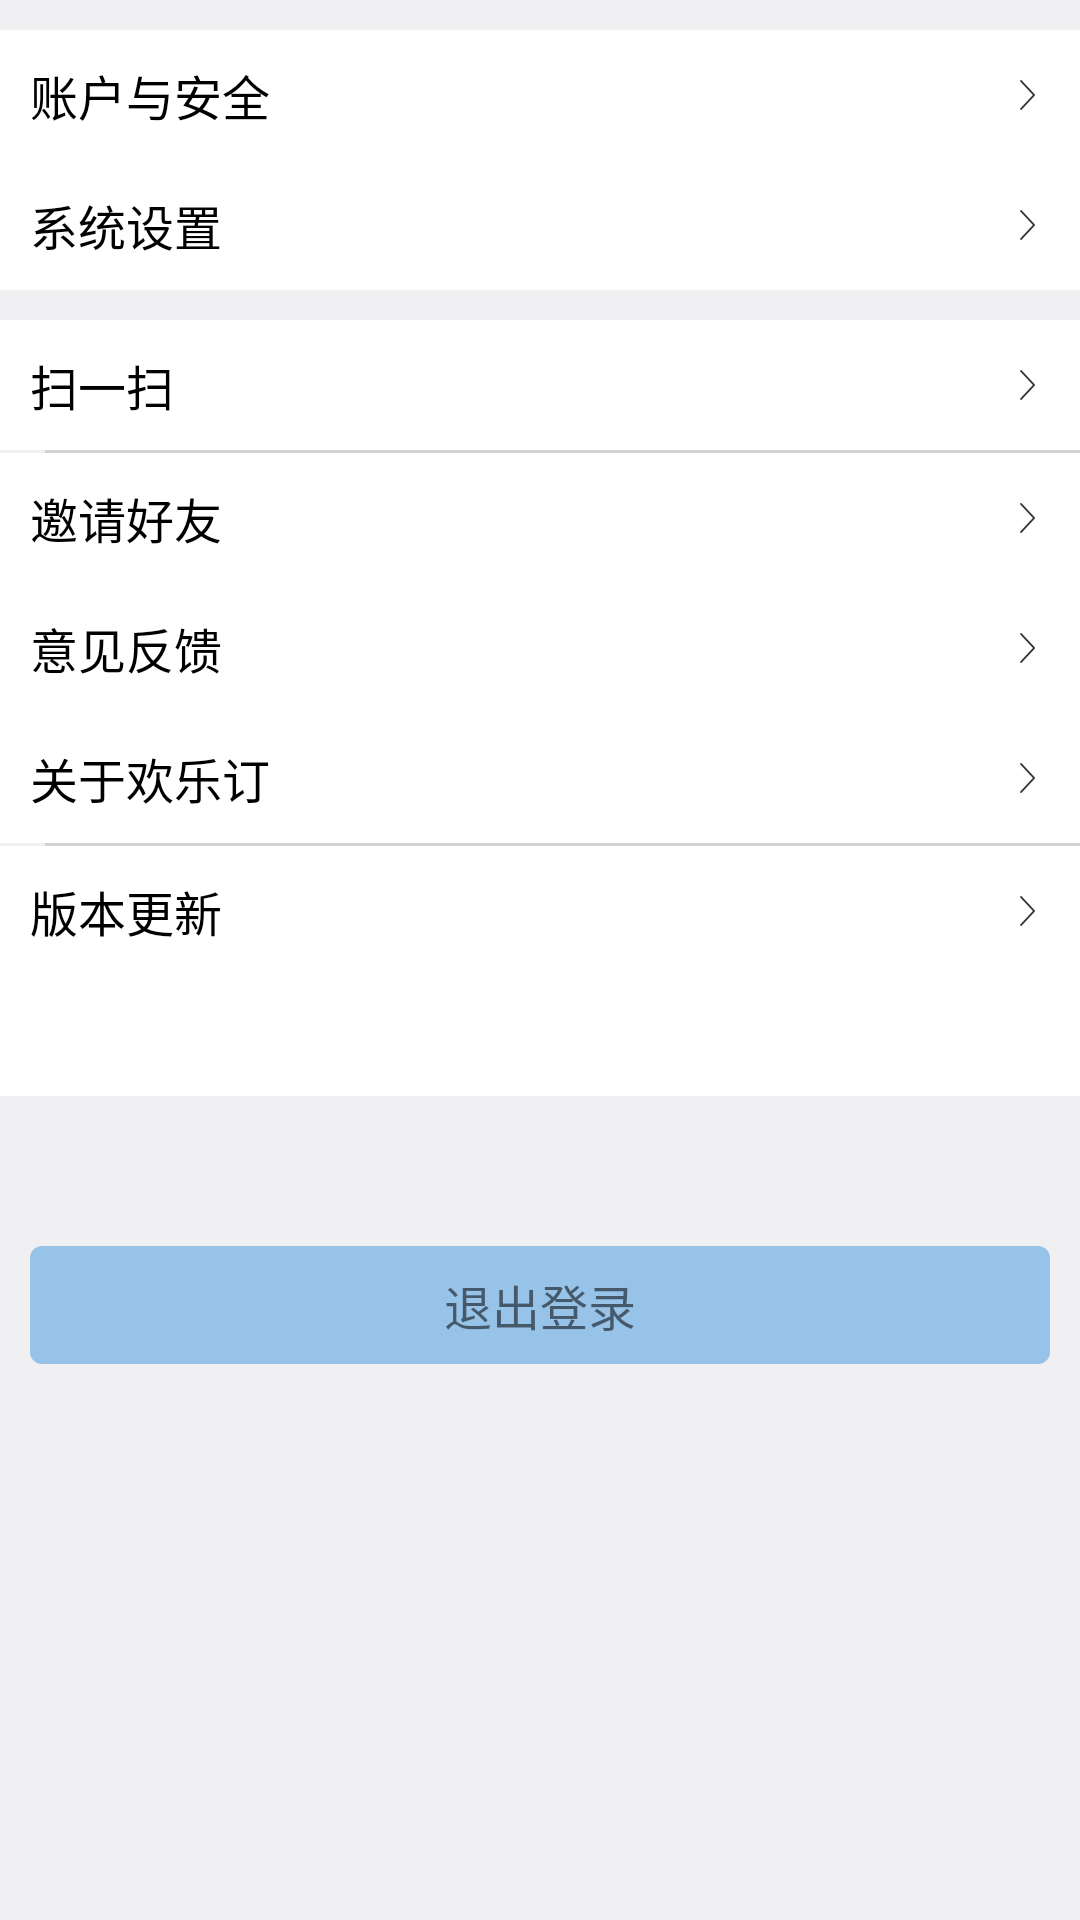

Where icons sit on this 1080 × 1920 app screen, as (x1,y1,x2,y2):
right: (1020,80,1035,110), (1020,210,1035,240), (1020,370,1035,400), (1020,503,1035,533), (1020,633,1035,663), (1020,763,1035,793), (1020,896,1035,926)
